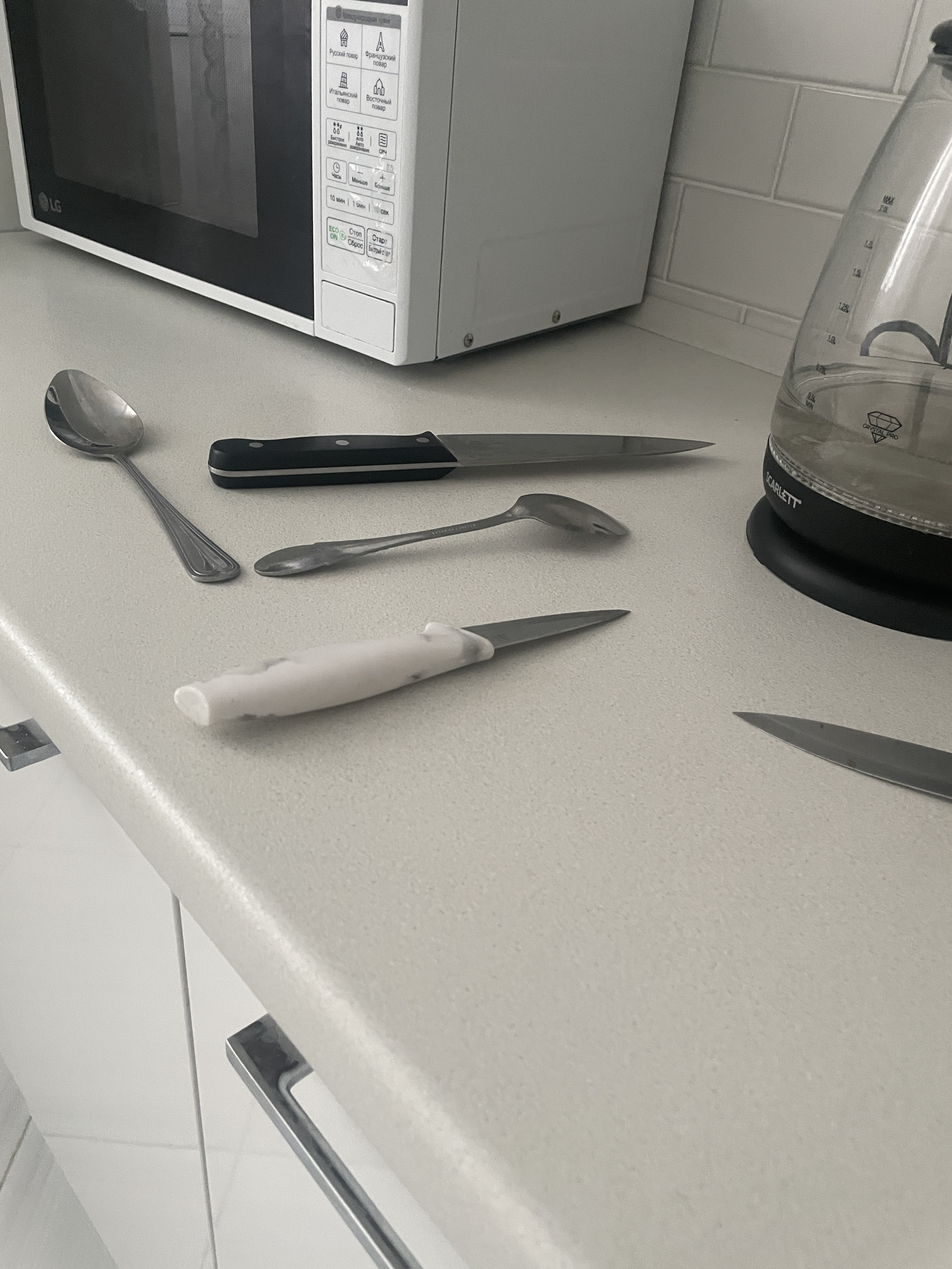knife: (174, 610, 629, 726), (208, 432, 711, 488), (738, 712, 952, 800)
spoon: (45, 369, 241, 583), (254, 493, 629, 577)
